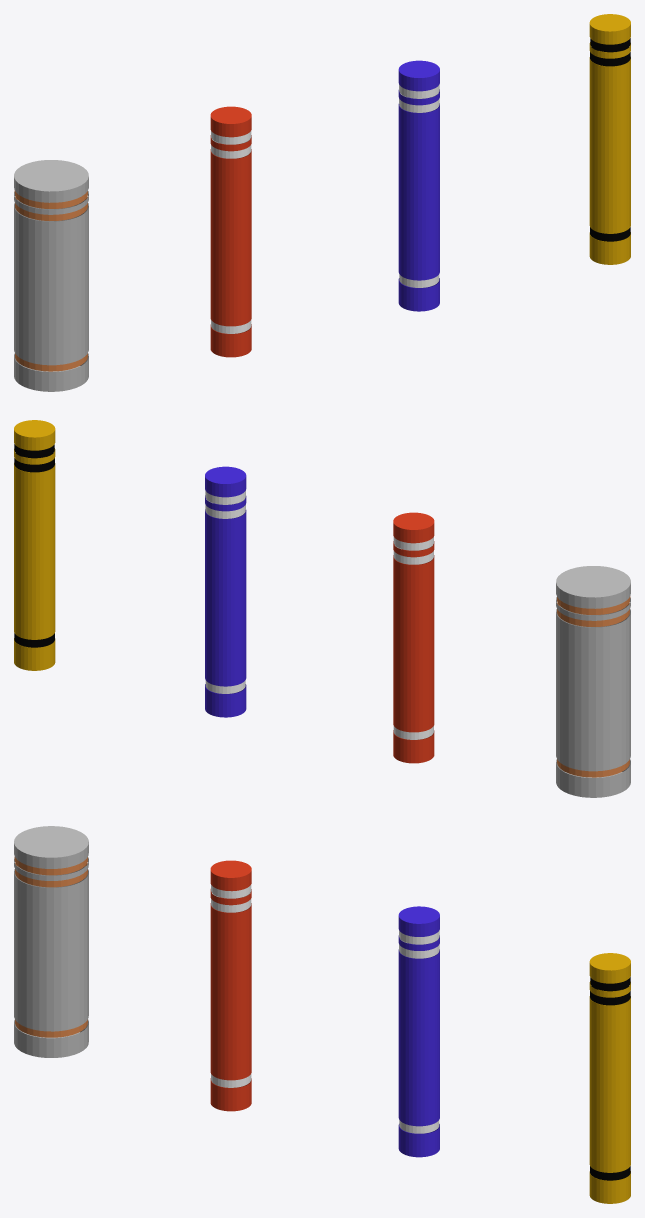
File: Bollard2.fbx
3 renders of one model, top to bottom at view 1: azimuth 30°, elevation 25°; view 2: azimuth 150°, elevation 25°; view 3: azimuth 330°, elevation 25°, orthographic.
Visible parts, largest first — view 1: Cylinder.006, Cylinder.004, Cylinder, Cylinder.002, Cylinder.007, Cylinder.003, Cylinder.001, Cylinder.005; view 2: Cylinder.006, Cylinder.004, Cylinder, Cylinder.002, Cylinder.007, Cylinder.003, Cylinder.001, Cylinder.005; view 3: Cylinder.006, Cylinder.004, Cylinder, Cylinder.002, Cylinder.007, Cylinder.003, Cylinder.001, Cylinder.005.
Boxes of the visible parts, x1,y1,x2,y2 form: Cylinder.006: [14, 160, 88, 391]; Cylinder.004: [210, 106, 251, 357]; Cylinder: [398, 60, 439, 311]; Cylinder.002: [589, 14, 630, 264]; Cylinder.007: [14, 190, 87, 371]; Cylinder.003: [590, 38, 630, 241]; Cylinder.001: [399, 84, 439, 287]; Cylinder.005: [211, 131, 251, 333]; Cylinder.006: [556, 566, 630, 797]; Cylinder.004: [393, 512, 434, 763]; Cylinder: [205, 466, 246, 717]; Cylinder.002: [14, 420, 55, 670]; Cylinder.007: [557, 596, 630, 777]; Cylinder.003: [14, 444, 54, 647]; Cylinder.001: [205, 490, 245, 693]; Cylinder.005: [393, 537, 433, 739]; Cylinder.006: [14, 826, 88, 1057]; Cylinder.004: [210, 860, 251, 1111]; Cylinder: [398, 906, 439, 1157]; Cylinder.002: [589, 953, 630, 1203]; Cylinder.007: [14, 856, 87, 1037]; Cylinder.003: [590, 977, 630, 1180]; Cylinder.001: [399, 930, 439, 1133]; Cylinder.005: [211, 884, 251, 1087].
Bounding box in the file's own units: 3640 × 1332 × 388.
